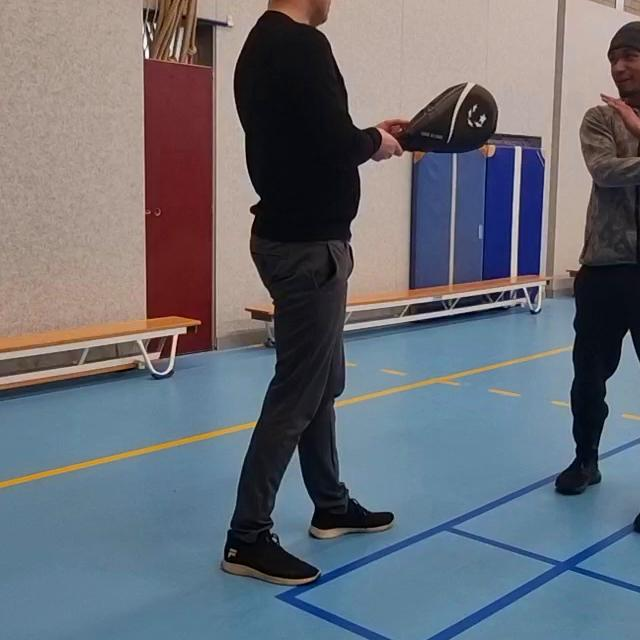paddle: (385, 80, 500, 159)
